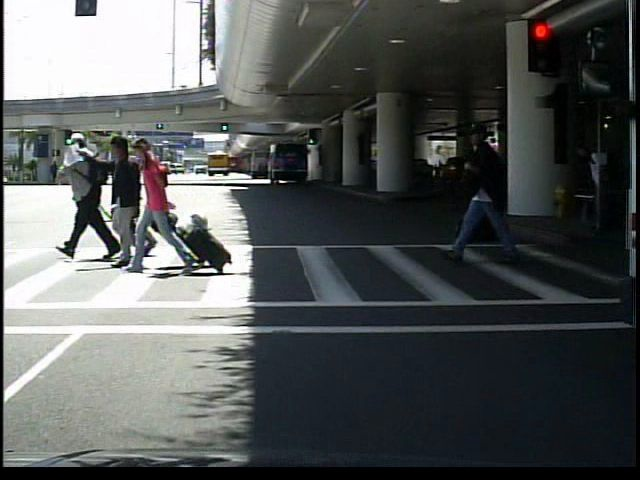person: (449, 113, 524, 265)
